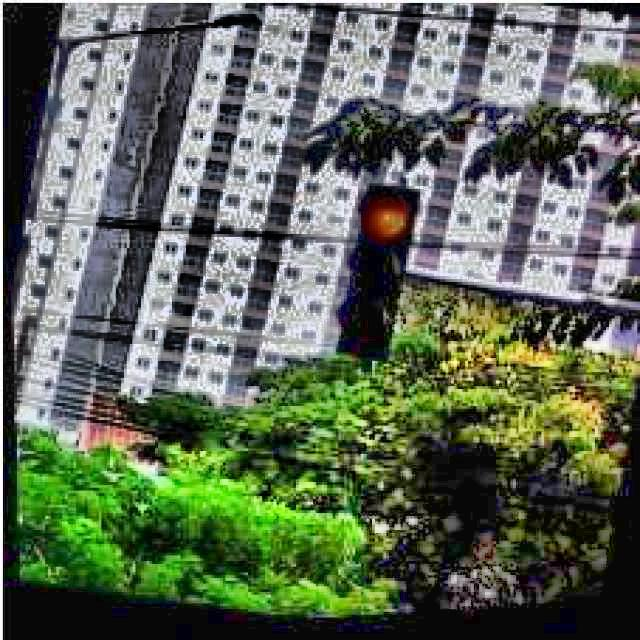red: (338, 184, 418, 365)
